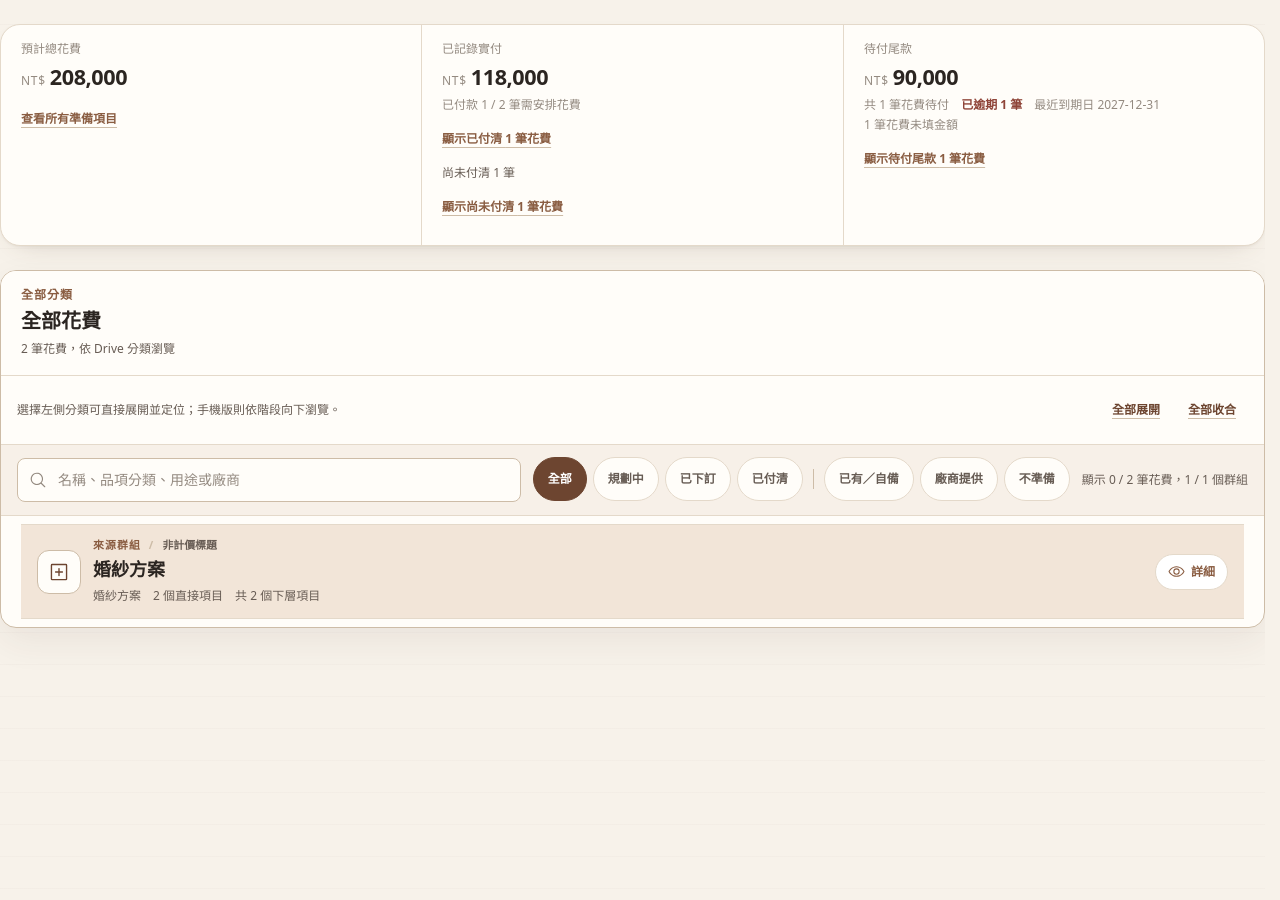
Test: BudgetList › maps truthful summary shortcuts to the connected status toolbar
In the search field named "搜尋花費項目": (269, 480) [17,458,521,502], type "禮服"
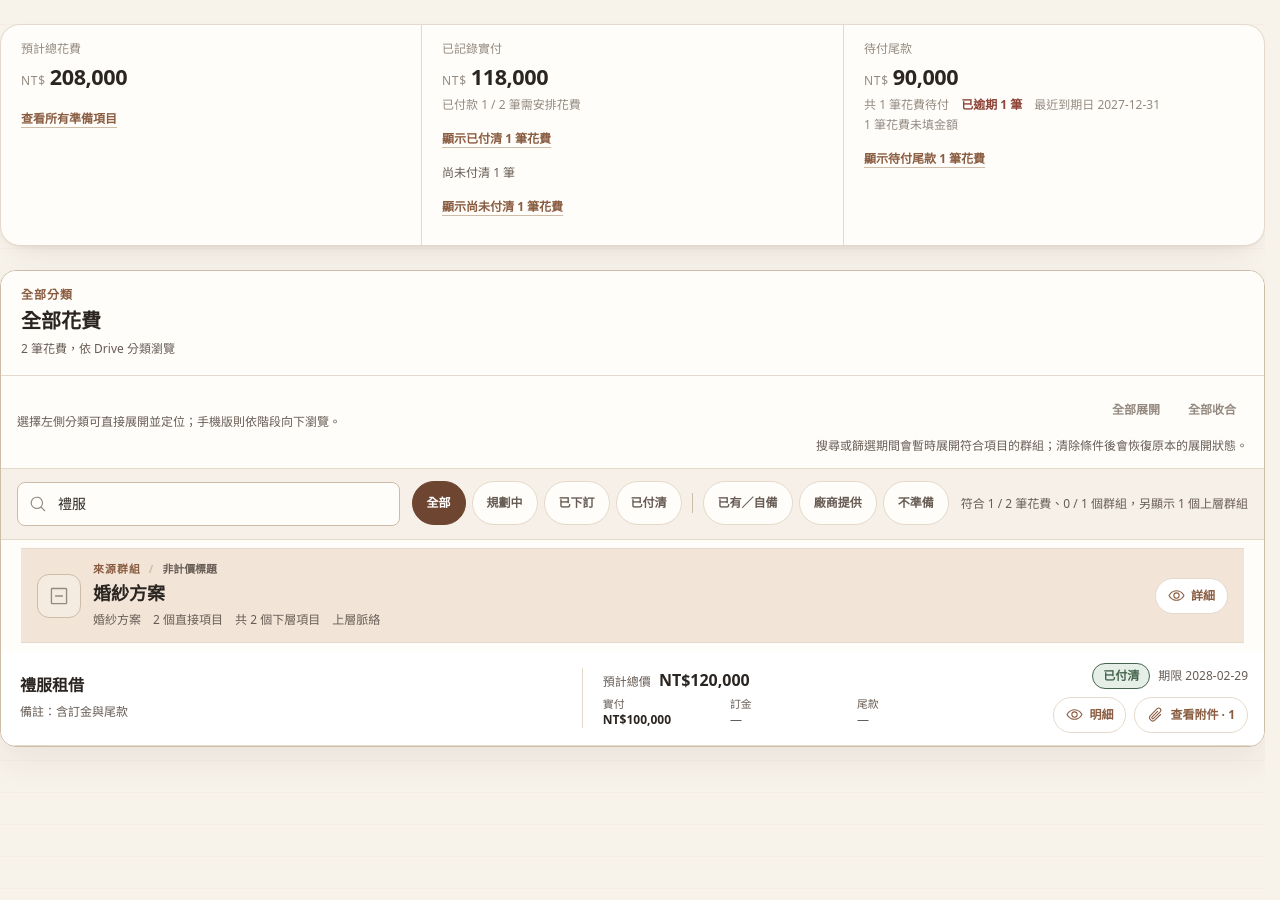
Click the button "顯示已付清 1 筆花費": (497, 139) [442,117,551,161]
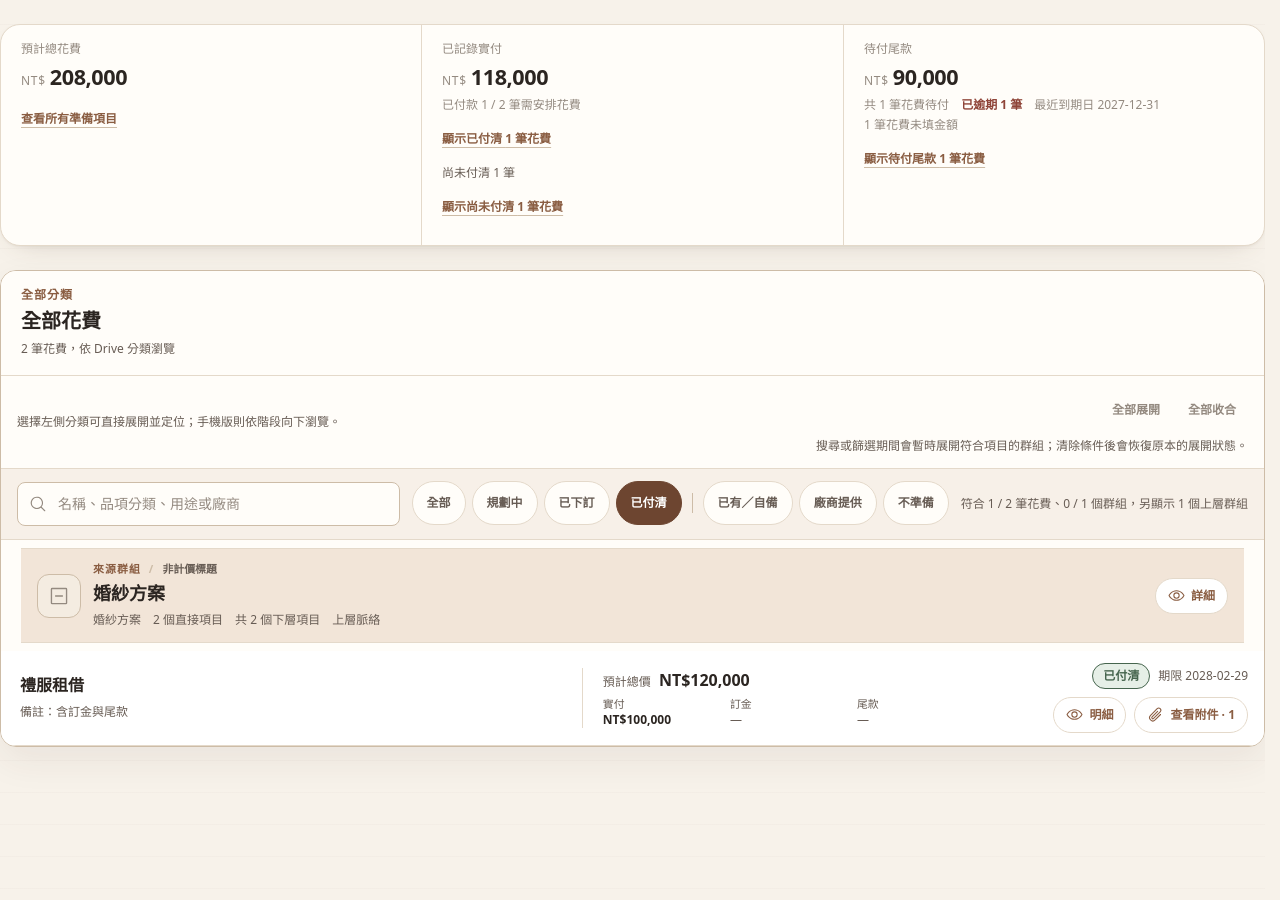
Check: the heading "婚紗方案" is shown, box [93,584,165,604]
Check: the text "符合 1 / 2 筆花費、0 / 1 個群組，另顯示 1 個上層群組" is shown, box [961,496,1248,512]
Check: the search field named "搜尋花費項目" is empty
In the search field named "搜尋花費項目": (208, 504) [17,482,400,526], type "禮服"
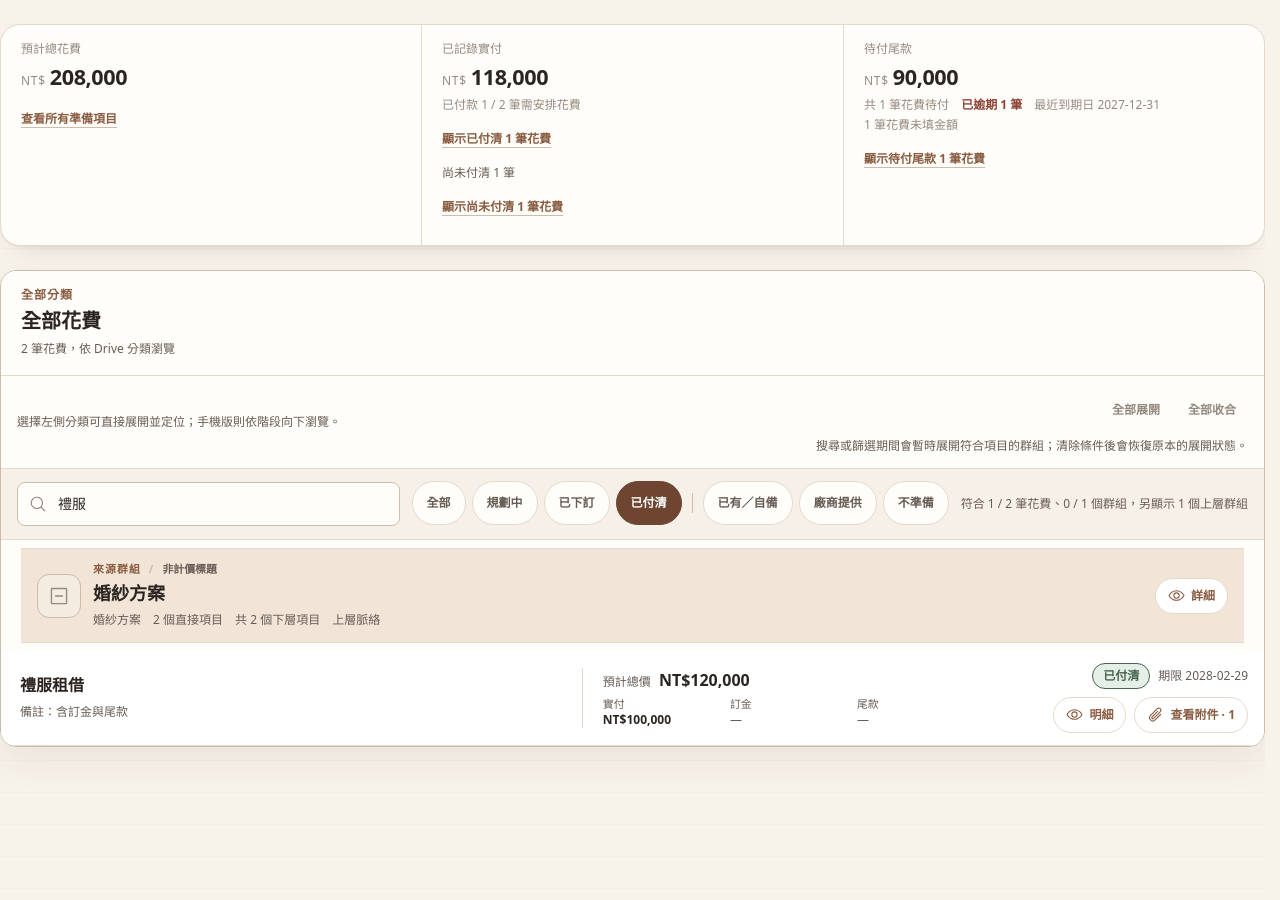
Click the button "顯示待付尾款 1 筆花費": (925, 159) [864,137,985,181]
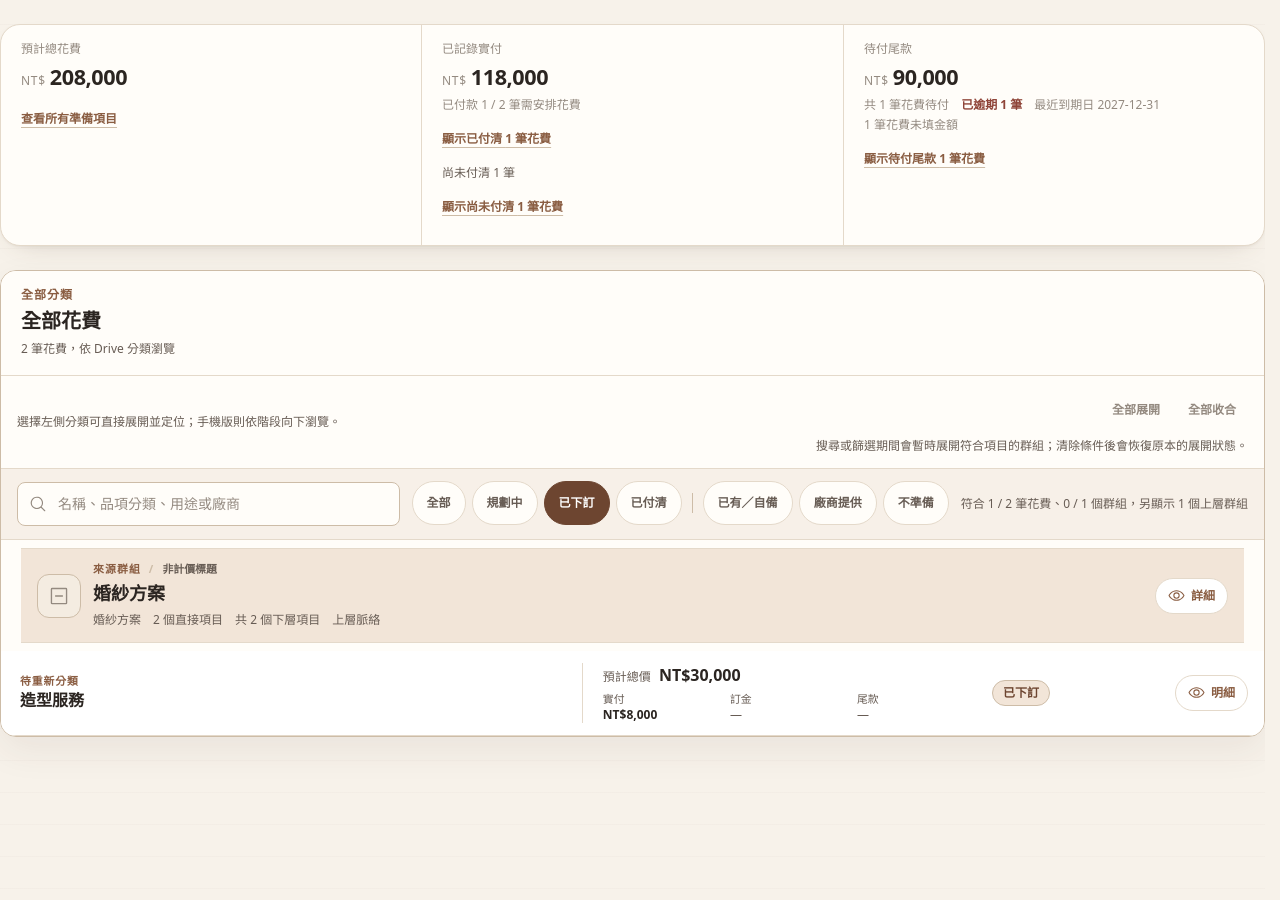
Check: the search field named "搜尋花費項目" is empty
Check: the heading "造型服務" is shown, box [20,692,84,709]
In the search field named "搜尋花費項目": (208, 504) [17,482,400,526], type "造型服務"
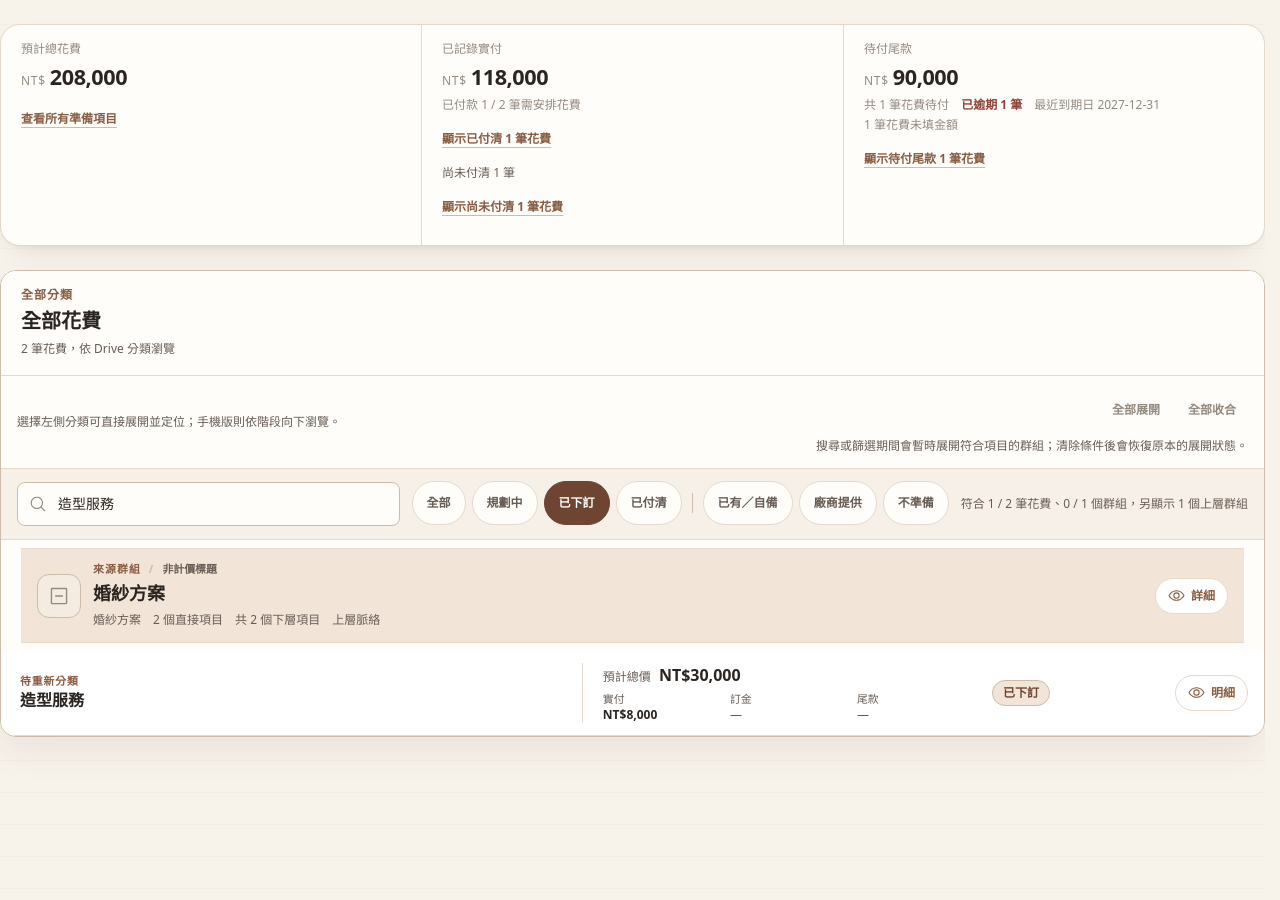
Click the button "查看所有準備項目": (69, 119) [21,97,117,141]
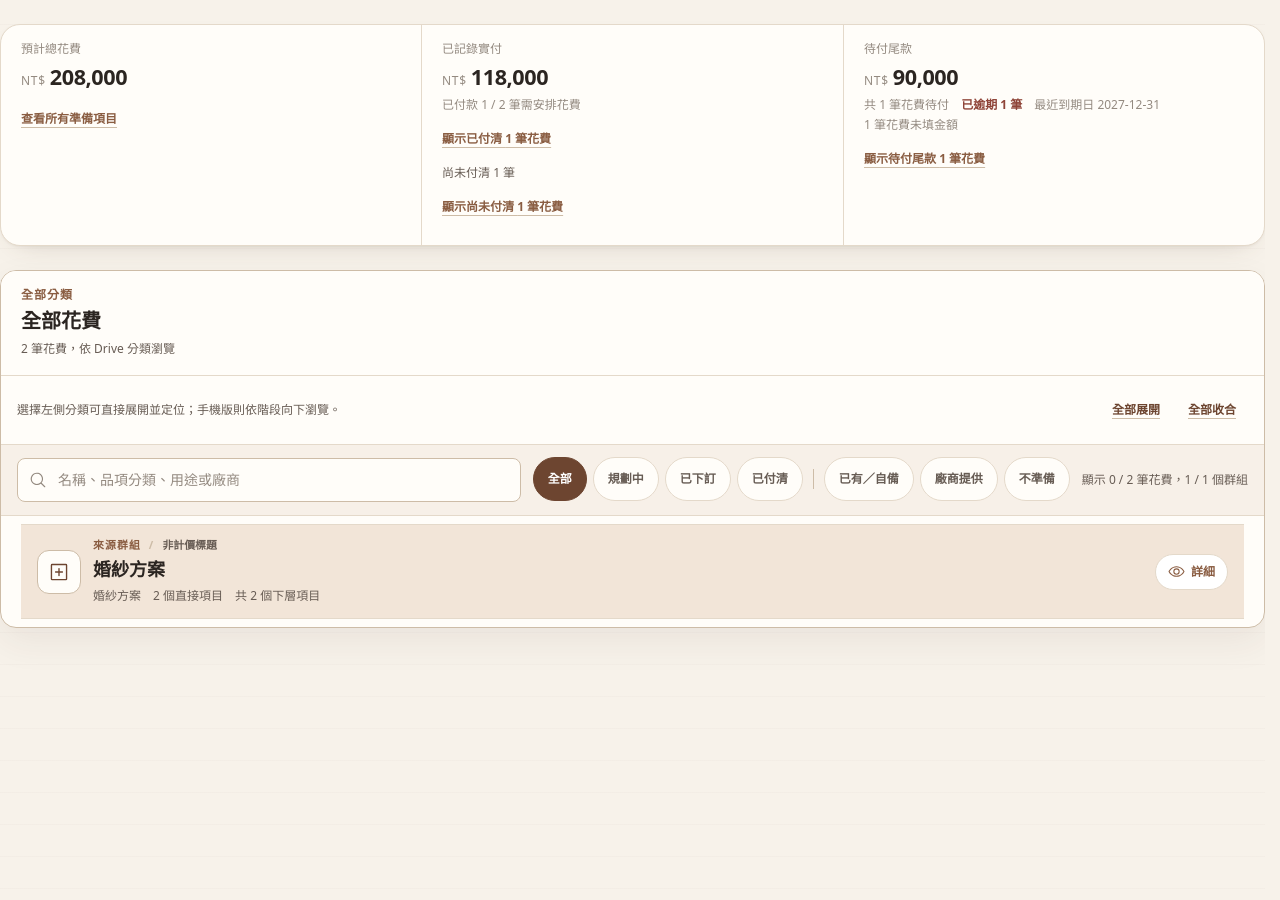
Check: the search field named "搜尋花費項目" is empty, box [17,458,521,502]
Check: the button named "展開群組：婚紗方案" is shown, box [37,550,81,594]
Check: the text "顯示 0 / 2 筆花費，1 / 1 個群組" is shown, box [1082,472,1248,488]
